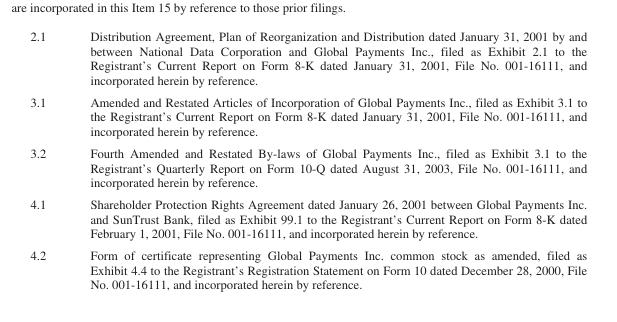table: (29, 28, 586, 291)
table column: (67, 28, 586, 291), (29, 28, 67, 291)
table row: (29, 28, 586, 90), (29, 90, 586, 141), (29, 141, 586, 192), (29, 192, 586, 243), (29, 243, 586, 291)
